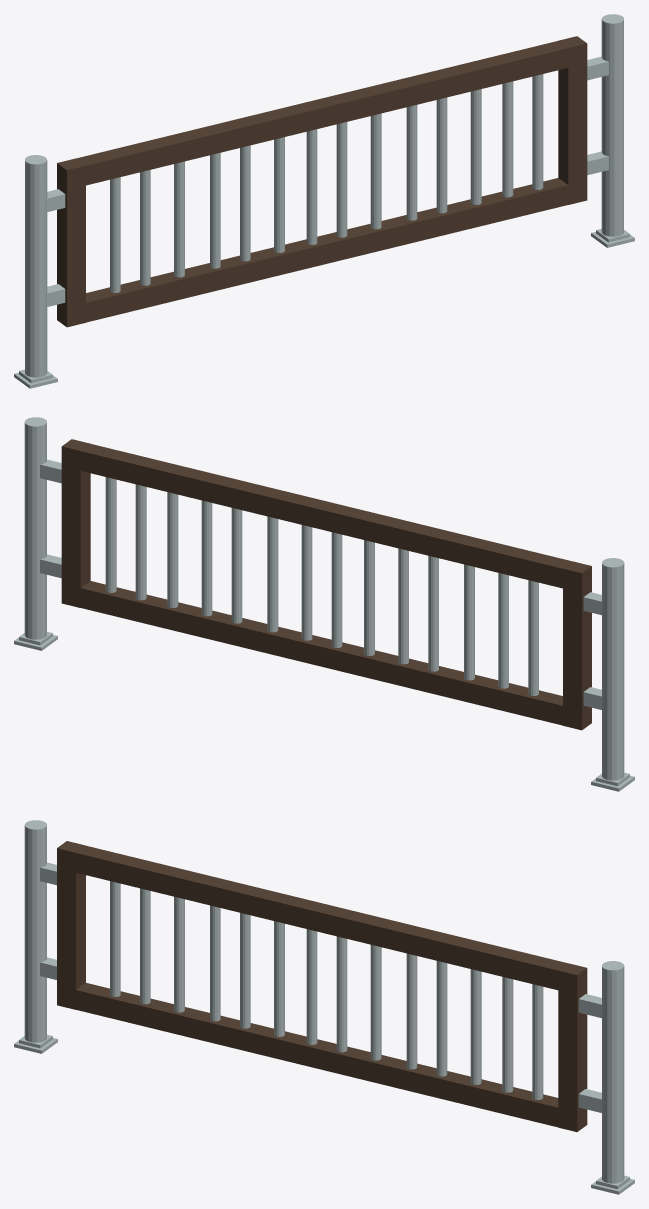
Rendered from fence.fbx.
The picture shows the model from 3 angles, top to bottom: view 1: azimuth 30°, elevation 25°; view 2: azimuth 150°, elevation 25°; view 3: azimuth 330°, elevation 25°; orthographic projection.
Parts seen in each view (by area): view 1: Cylinder.004, Cylinder, Cylinder.006; view 2: Cylinder.004, Cylinder.006, Cylinder; view 3: Cylinder.004, Cylinder, Cylinder.006.
Boxes of the visible parts, box(x1,y1,x2,y2) form: Cylinder.004: box(14, 14, 634, 388); Cylinder: box(57, 36, 587, 327); Cylinder.006: box(76, 41, 568, 302); Cylinder.004: box(14, 417, 634, 791); Cylinder.006: box(78, 444, 572, 725); Cylinder: box(61, 439, 591, 730); Cylinder.004: box(14, 820, 634, 1194); Cylinder: box(57, 841, 587, 1131); Cylinder.006: box(75, 845, 567, 1107).
Size of the model in its own units: 414 by 144 by 19.02.
